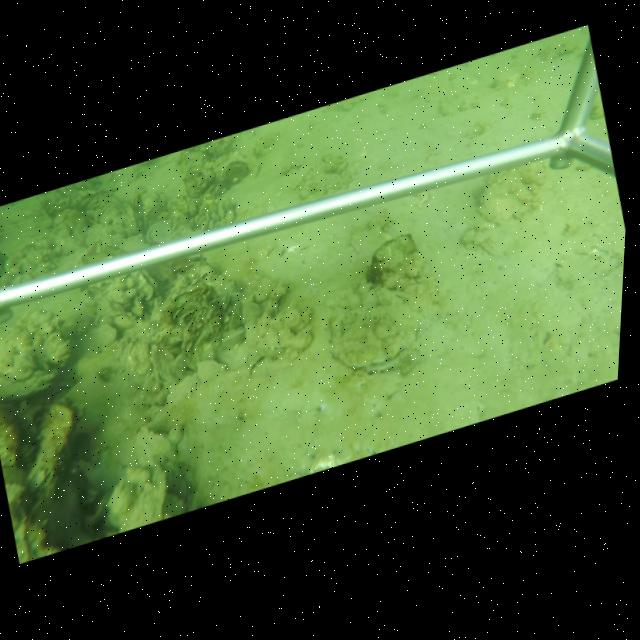Oyster-Closed: (28, 400, 79, 502), (476, 174, 534, 222), (216, 159, 249, 182)
Oyster-Indeterminate: (322, 285, 421, 371), (107, 460, 169, 529), (368, 231, 419, 275), (74, 321, 119, 355), (134, 426, 177, 461)
Oyster-Open: (137, 271, 157, 300), (221, 328, 246, 347)
